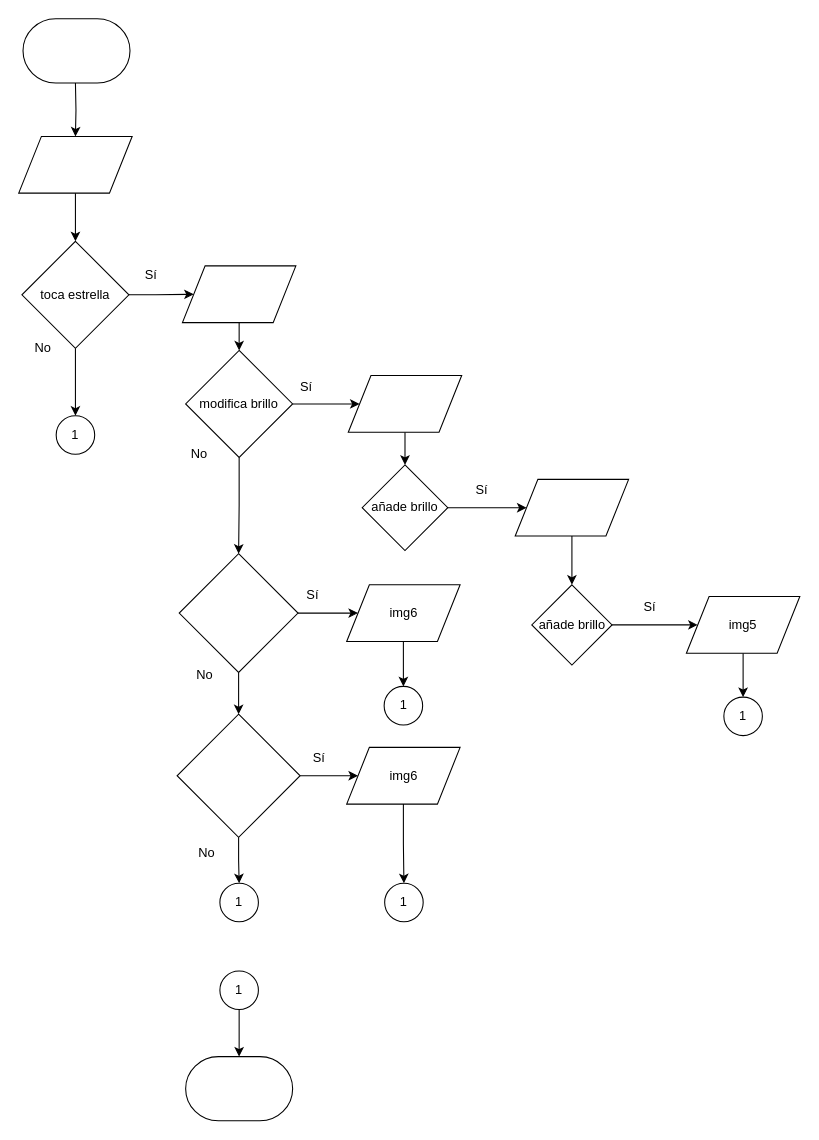
The diagram is 819 pixels wide and 1140 high, and some of its shapes have lost their labels. The shapes that lost their labels are listed below. From the top down, each one's centre as x and y in pixels, then its label:
At (x=75, y=164): "img1".
At (x=238, y=294): "img2".
At (x=404, y=403): "img3".
At (x=571, y=507): "img4".
At (x=238, y=612): "cambia magnitud abs".
At (x=238, y=775): "cambia magnitud app".
